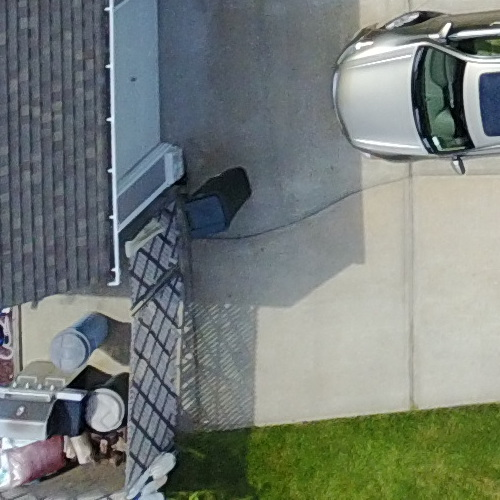trash bin: (177, 147, 259, 246), (42, 306, 118, 383), (62, 382, 139, 439)
